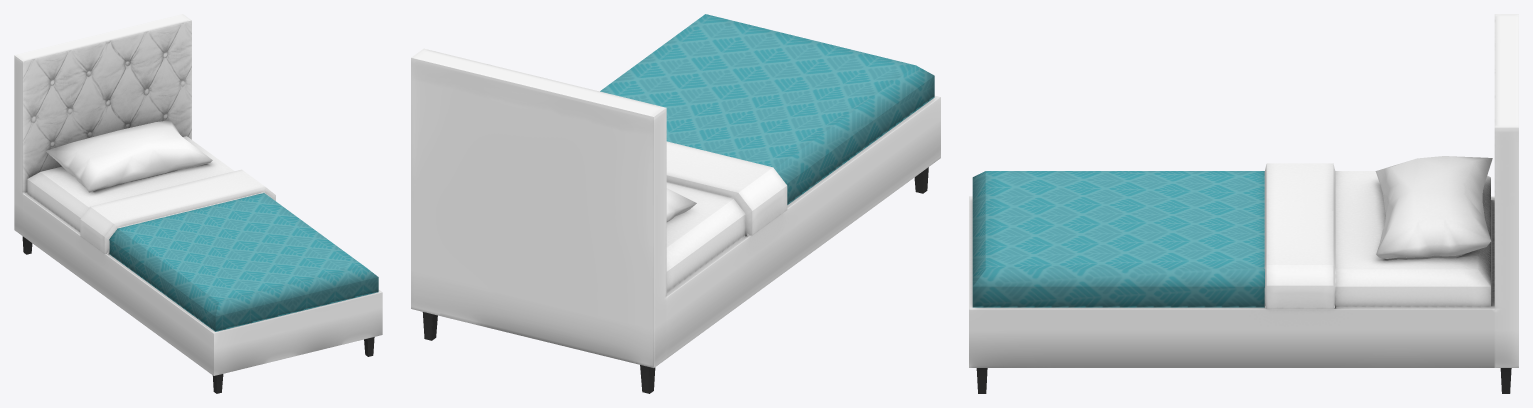
File: bedSingleBlue.glb
3 views of the same model, side by side, from view 1: azimuth 30°, elevation 25°; view 2: azimuth 150°, elevation 25°; view 3: azimuth 270°, elevation 25° (orthographic). The views are drawn at different scales.
Parts seen in each view (by area): view 1: Object_40; view 2: Object_40; view 3: Object_40.
Part boxes in pixels (<box>): Object_40: <box>14,14,382,393</box>; Object_40: <box>411,14,940,393</box>; Object_40: <box>969,14,1518,393</box>.
Bounding box in the file's own units: 2.1 × 2.3 × 4.24.
Materials: 1 (1 with a texture image).
